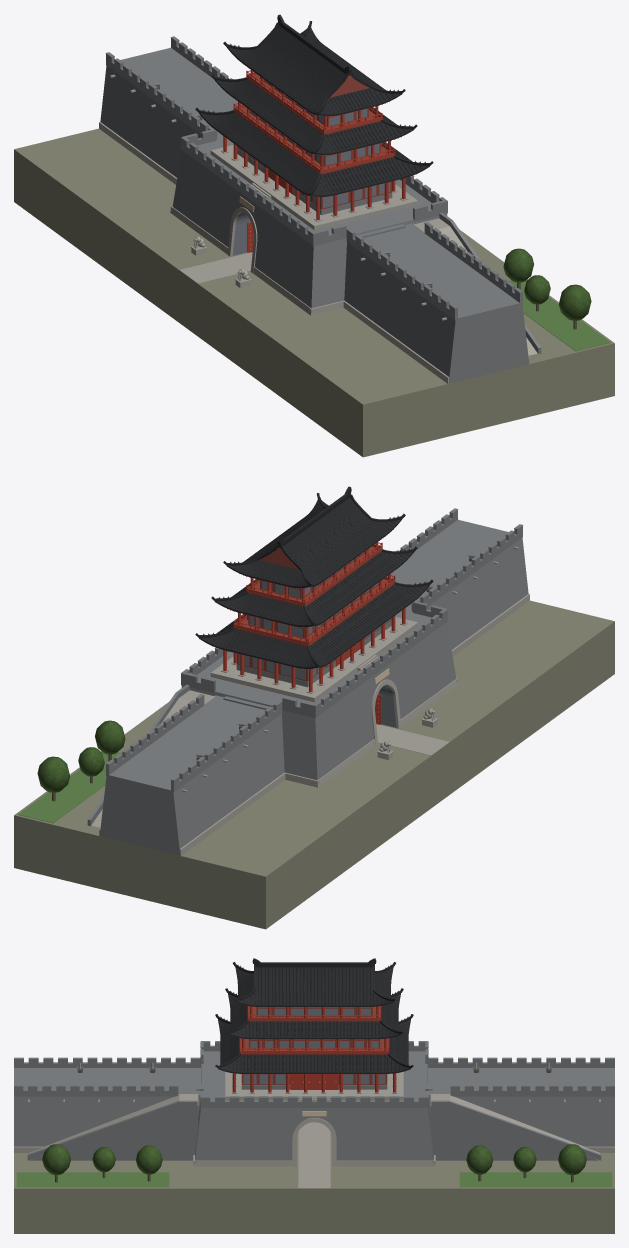
The model's file is top-prebuilt_close.fbx.
3 renders of one model, top to bottom at view 1: azimuth 30°, elevation 25°; view 2: azimuth 150°, elevation 25°; view 3: azimuth 270°, elevation 25°, orthographic. The views are drawn at different scales.
Visible parts, largest first — view 1: landmark-city_gate_tower/0/top-prebuilt_close; view 2: landmark-city_gate_tower/0/top-prebuilt_close; view 3: landmark-city_gate_tower/0/top-prebuilt_close.
Boxes of the visible parts, <box> form: landmark-city_gate_tower/0/top-prebuilt_close: <box>14,14,614,457</box>; landmark-city_gate_tower/0/top-prebuilt_close: <box>14,486,614,929</box>; landmark-city_gate_tower/0/top-prebuilt_close: <box>14,958,614,1233</box>.
Bounding box in the file's own units: 50 × 49 × 120.
